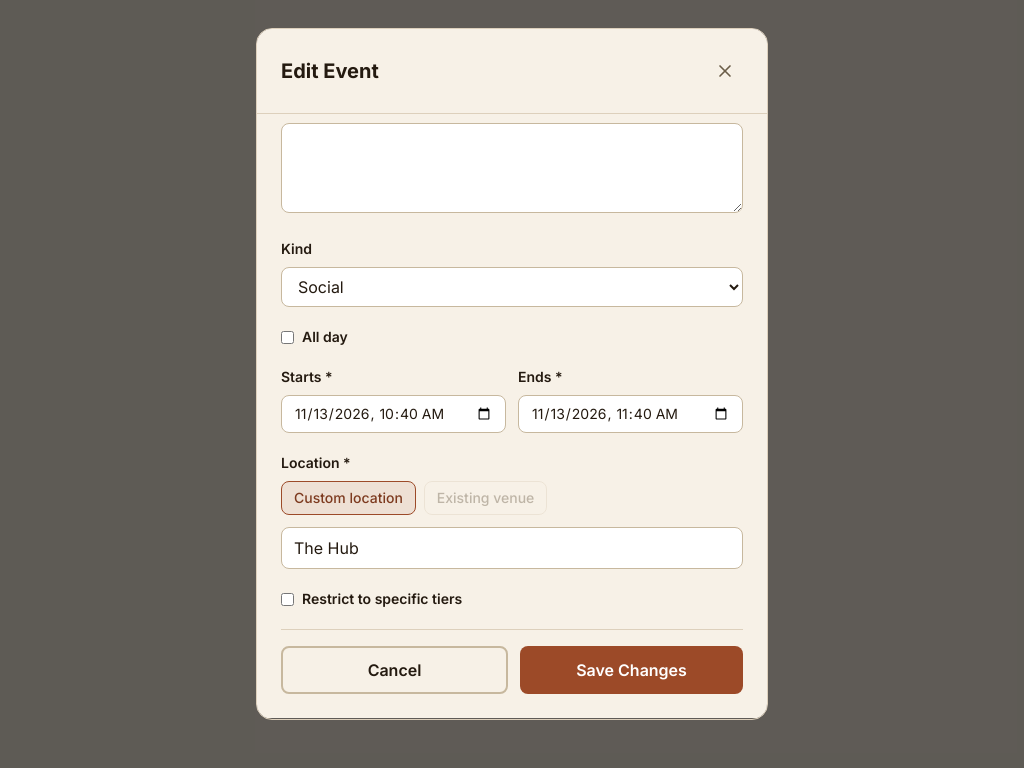
it: CreateEventModal › shows an error and signs out when editing an event fails with an expired session (401)
(page scrolled)
Click the button "Save Changes".
click(632, 670)  # box [520,646,743,694]
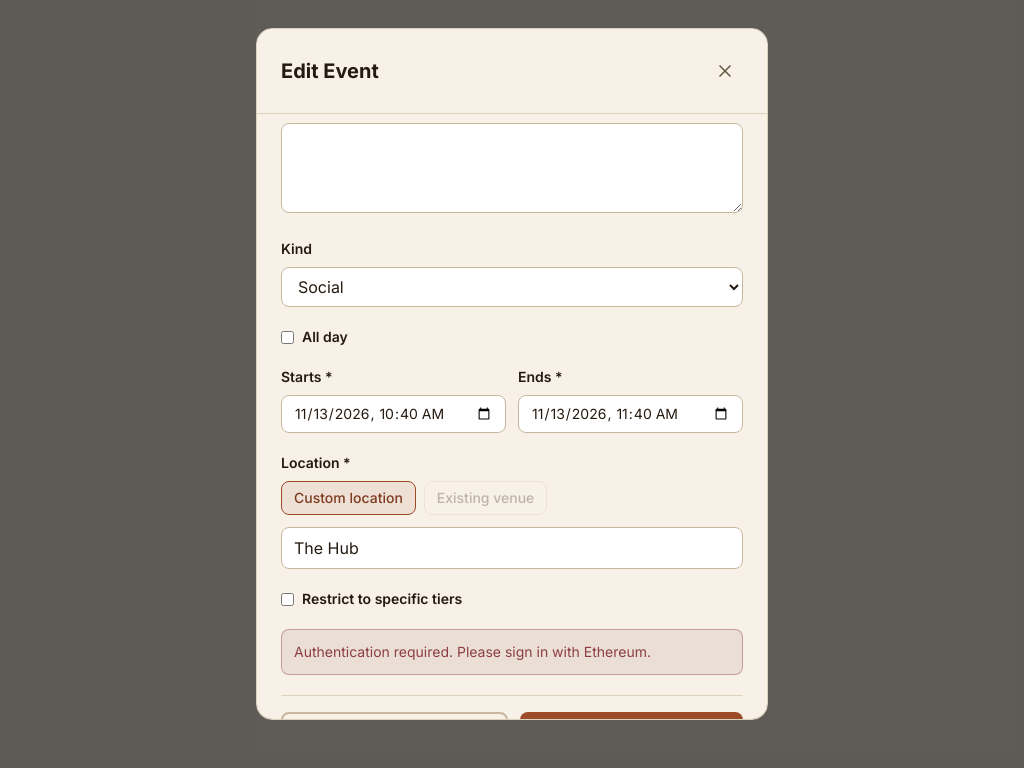
Now the text "Authentication required. Please sign in with Ethereum." is shown, box [294,643,651,660]
